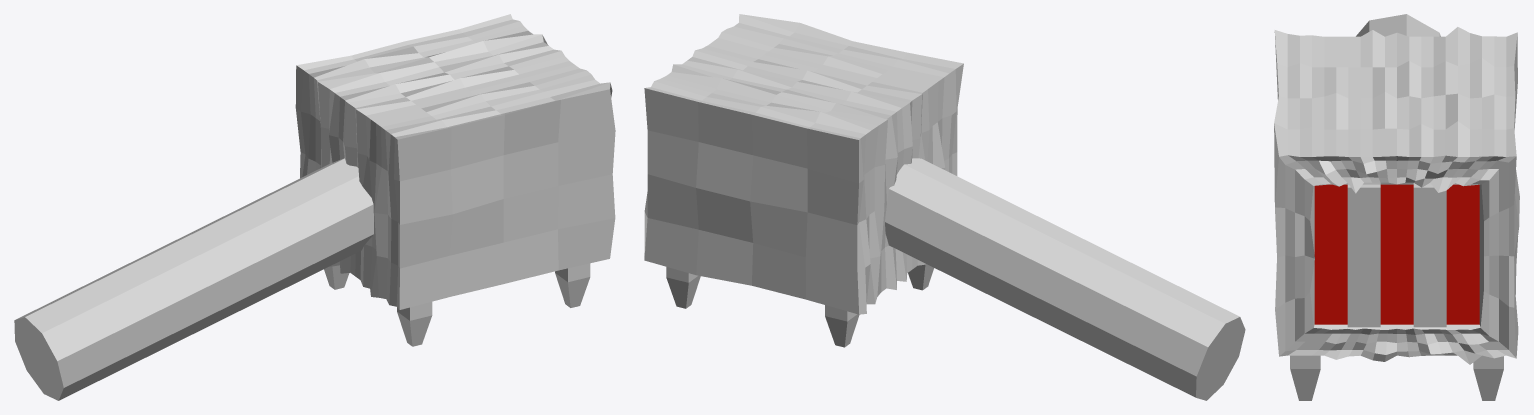
File: Furnace.fbx
The picture shows the model from 3 angles, left to right: view 1: azimuth 30°, elevation 25°; view 2: azimuth 150°, elevation 25°; view 3: azimuth 270°, elevation 25°; orthographic projection. The views are drawn at different scales.
Visible parts, largest first — view 1: Furnace, Pipe; view 2: Furnace, Pipe; view 3: Furnace, Pipe.
Boxes of the visible parts, bbox=[...] form: Furnace: bbox=[295, 14, 615, 346]; Pipe: bbox=[14, 158, 373, 400]; Furnace: bbox=[644, 14, 963, 347]; Pipe: bbox=[885, 158, 1245, 400]; Furnace: bbox=[1274, 27, 1519, 400]; Pipe: bbox=[1356, 14, 1440, 36].
Size of the model in its own units: 846 by 338 by 284.
